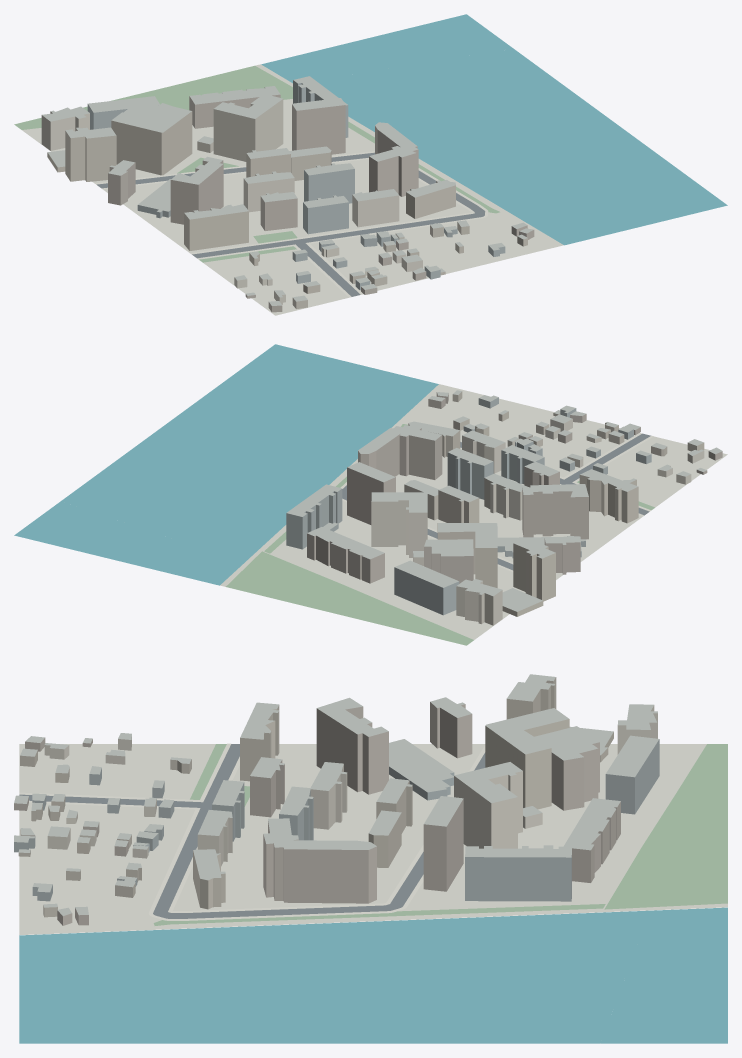
3 views of the same model, one above another, from view 1: azimuth 30°, elevation 25°; view 2: azimuth 150°, elevation 25°; view 3: azimuth 270°, elevation 25° (orthographic). The views are drawn at different scales.
Visible parts, largest first — view 1: city; view 2: city; view 3: city.
Part boxes in pixels (x1=…): city: x1=14, y1=14, x2=727, y2=315; city: x1=14, y1=344, x2=727, y2=645; city: x1=14, y1=674, x2=727, y2=1043.
Bounding box in the file's own units: 518 × 50.88 × 504.
